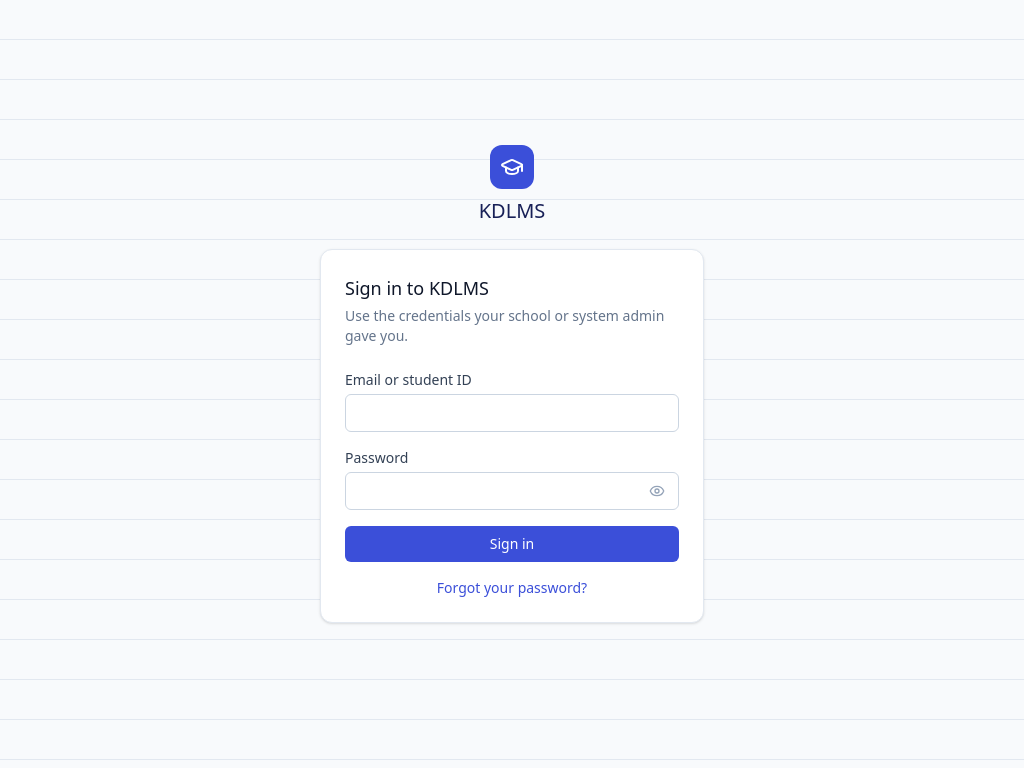
LoginPage › shows an error message on failed login and stays on the login page
Type "admin@kdlms.com" into the field labelled "Email or student ID" at [512, 413], box [345,394,679,432]
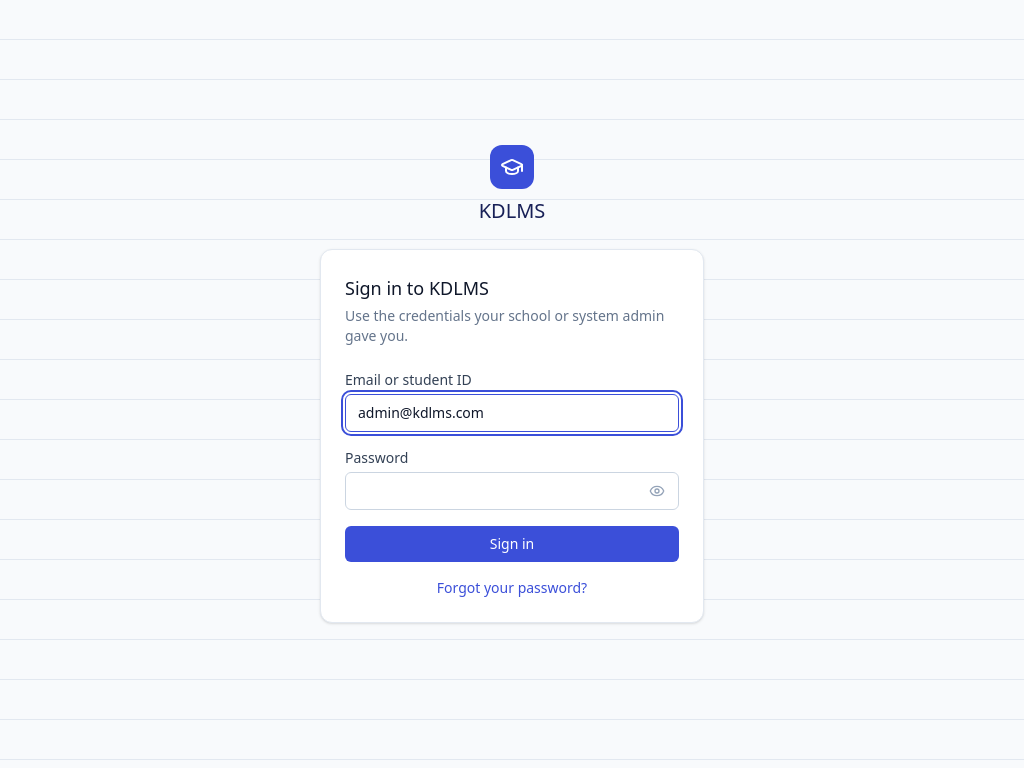
Type "wrong-password" into the password field labelled "Password" at [512, 491], box [345,472,679,510]
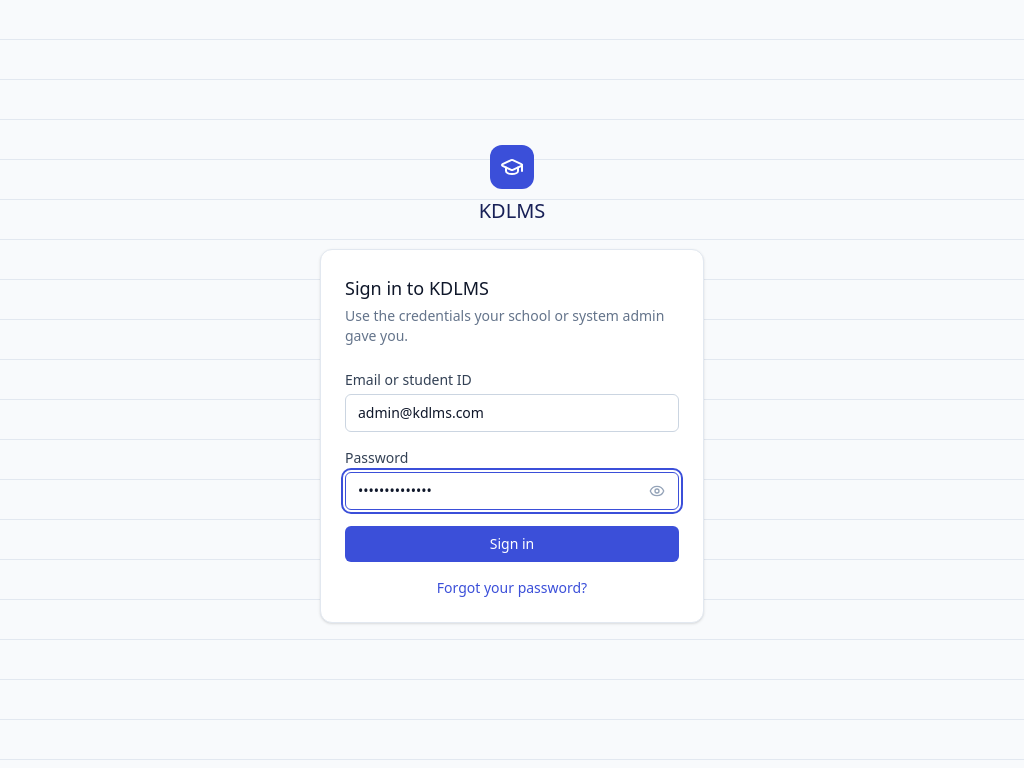
Click the button "Sign in" at [512, 544], box [345,526,679,562]
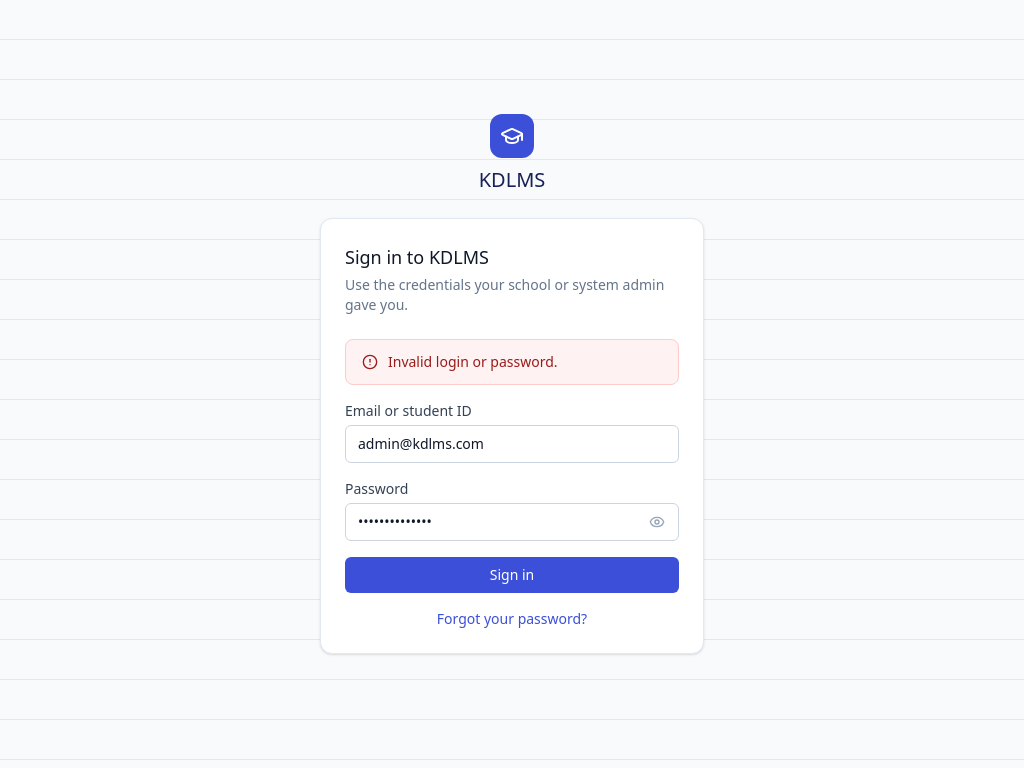
Check: the button "Sign in" is shown, box [345,557,679,593]
Check: the text "Invalid login or password." is shown, box [388,352,558,371]
